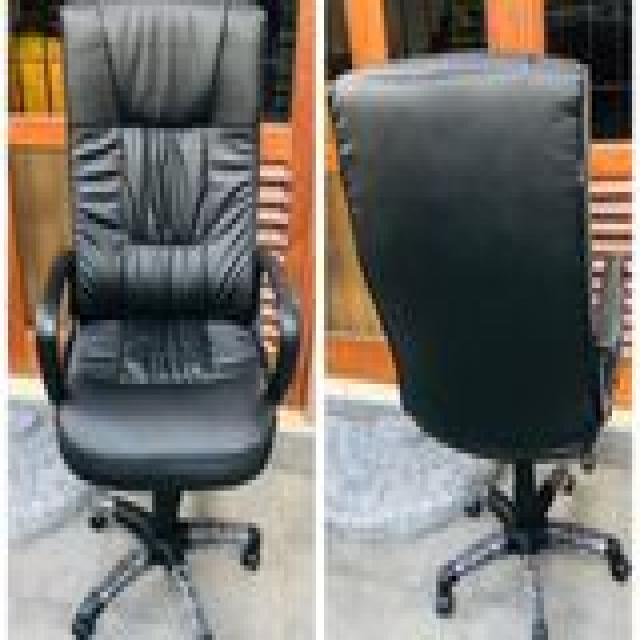others: (328, 21, 632, 635), (16, 5, 304, 624)
